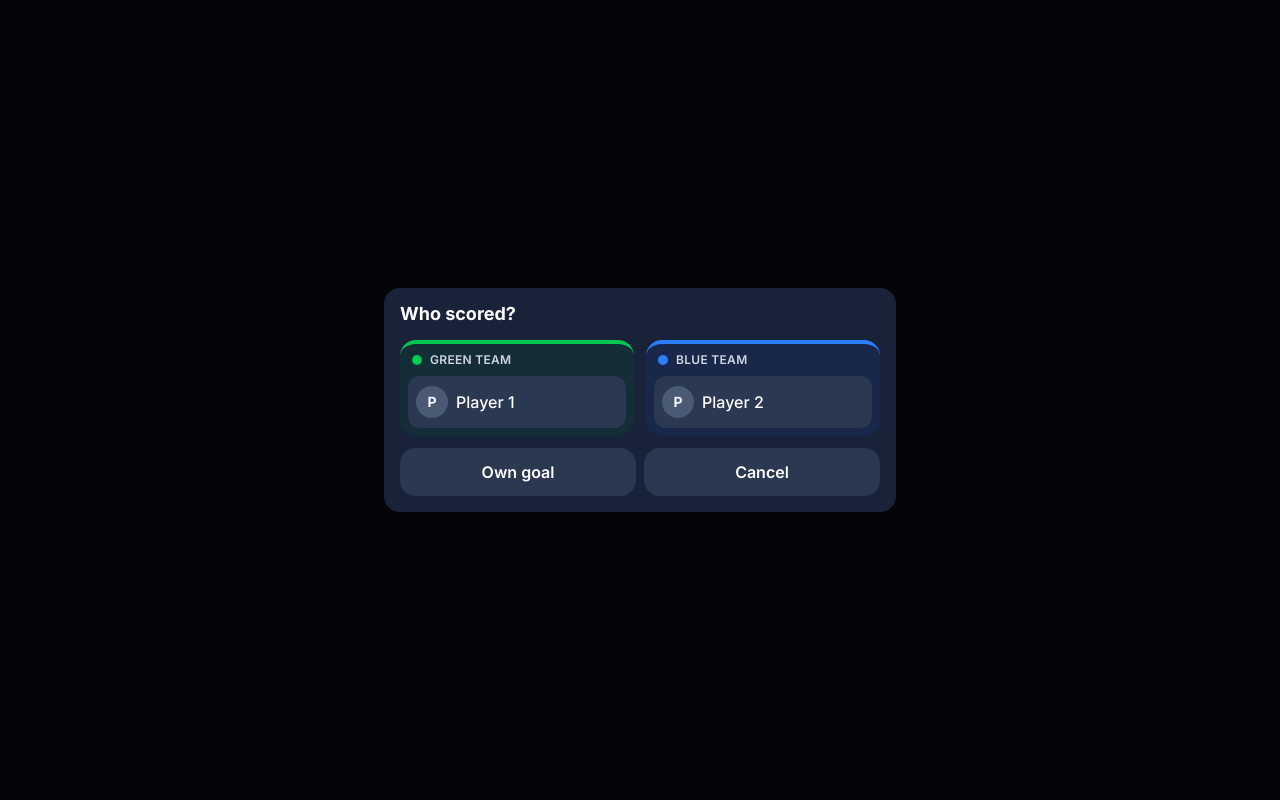
Test: asks who assisted the scorer, and can go back to pick another scorer
The image size is (1280, 800).
Later steps or results of the test are not shown.
Click the text "Player 1": click(485, 402) left=456, top=392, right=514, bottom=412
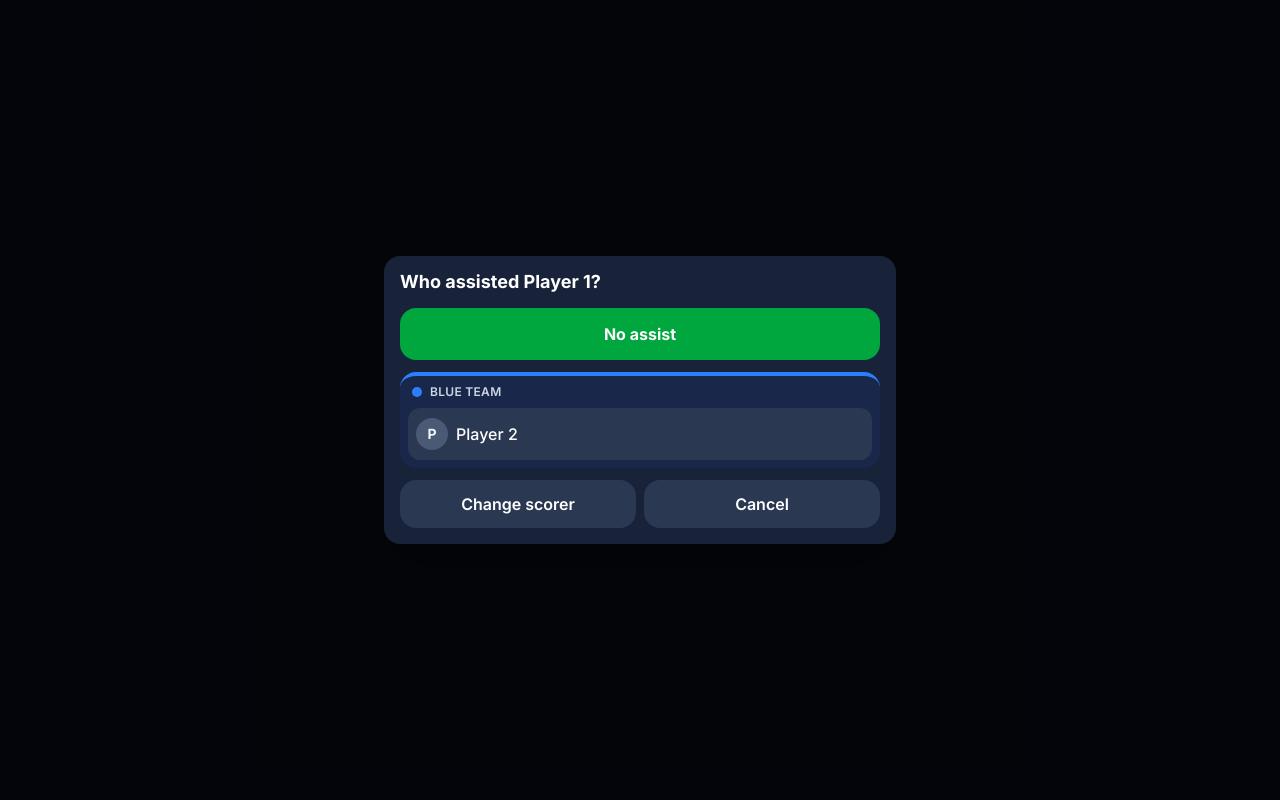
Expected: the heading "Who assisted Player 1?" is shown, left=400, top=271, right=601, bottom=292
